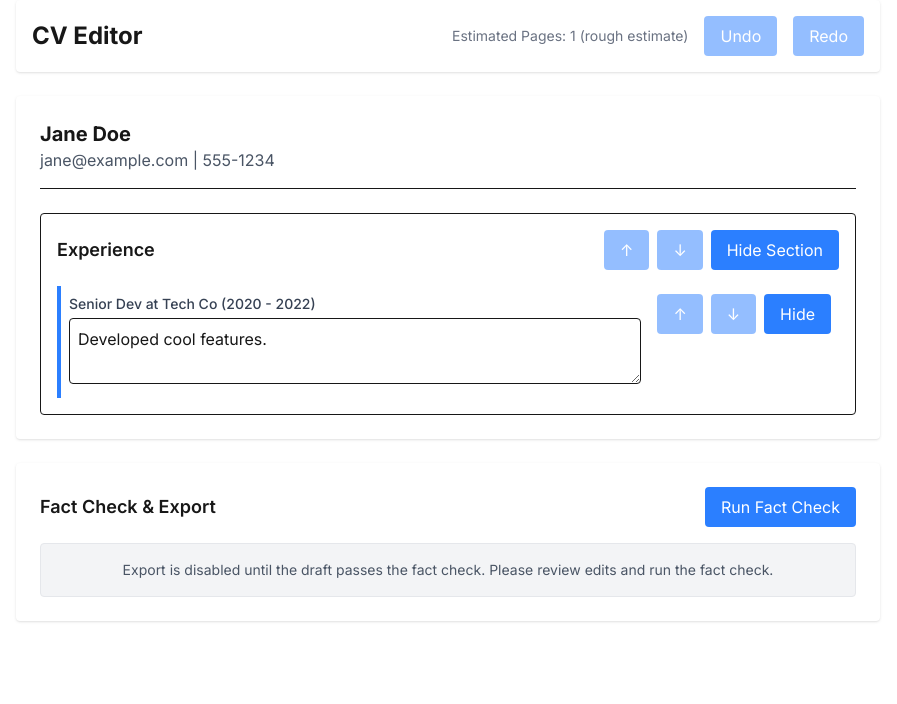
CvEditor Component › runs fact check and blocks export on failure
The image size is (897, 704).
Click the button "Run Fact Check".
click(780, 507)  # box [705,487,856,527]
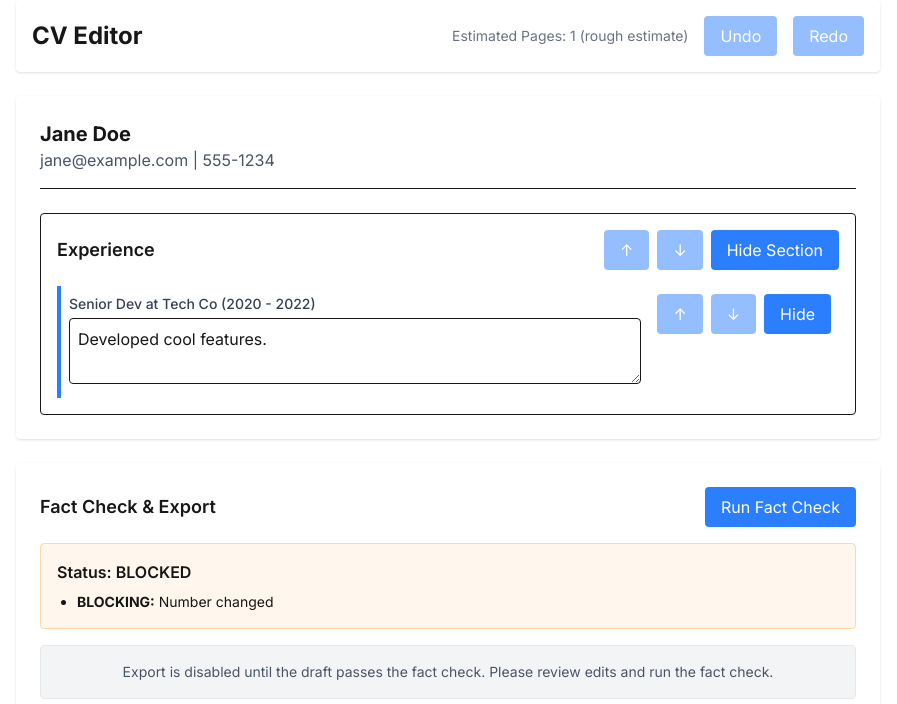
Expected: the heading "Status: BLOCKED" is shown, [57,562,191,582]
